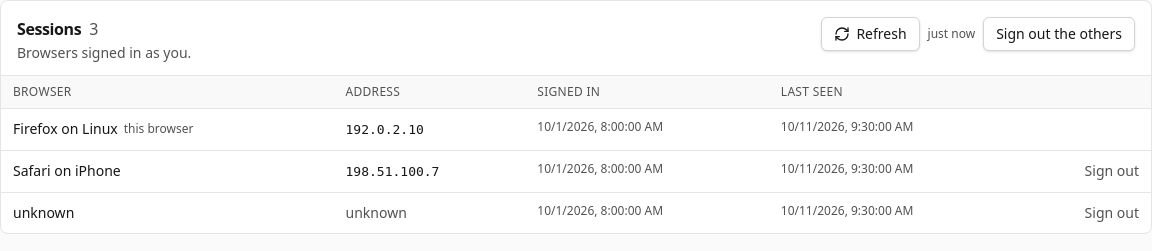
Test: SessionsCard › signs the others out once the confirm says yes
Click the button "Sign out the others". click: (1059, 34)
box: [983,17,1135,51]
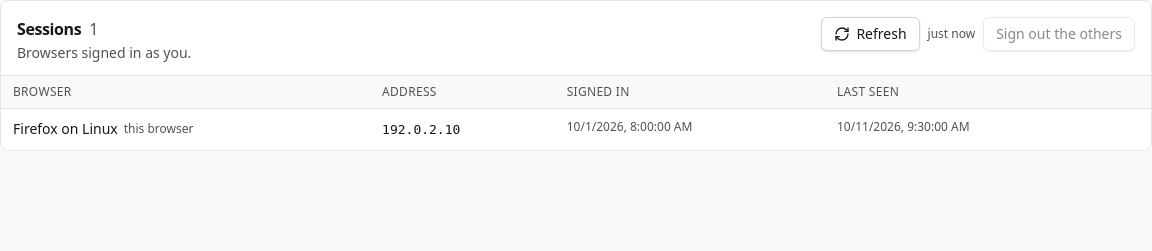
Expected: the button "Sign out the others" is disabled, [983,17,1135,51]
